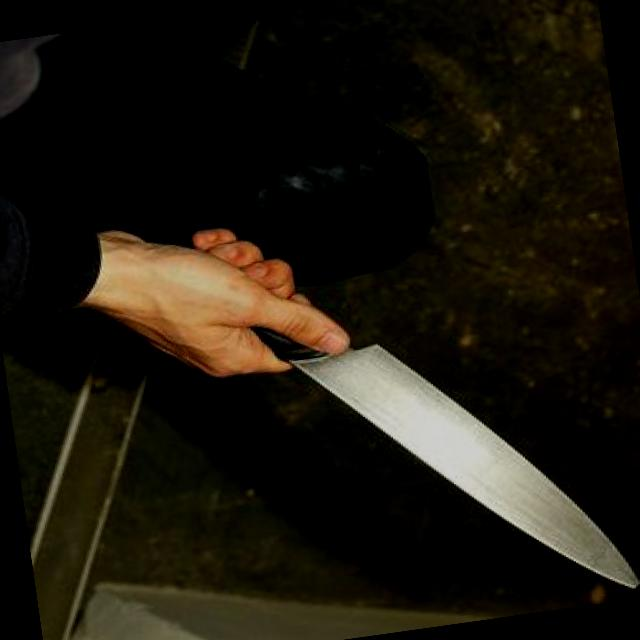knife: (174, 172, 639, 639)
